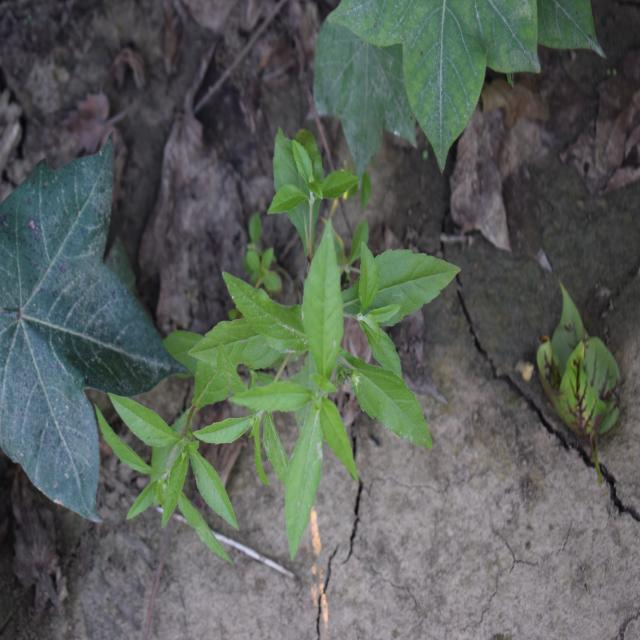Eclipta: (92, 124, 462, 570)
